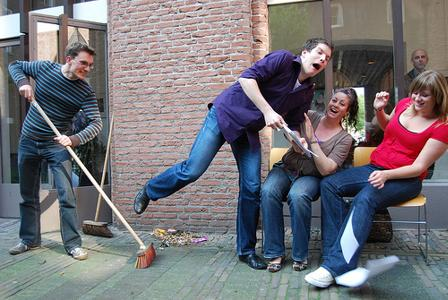person: (7, 42, 103, 262)
